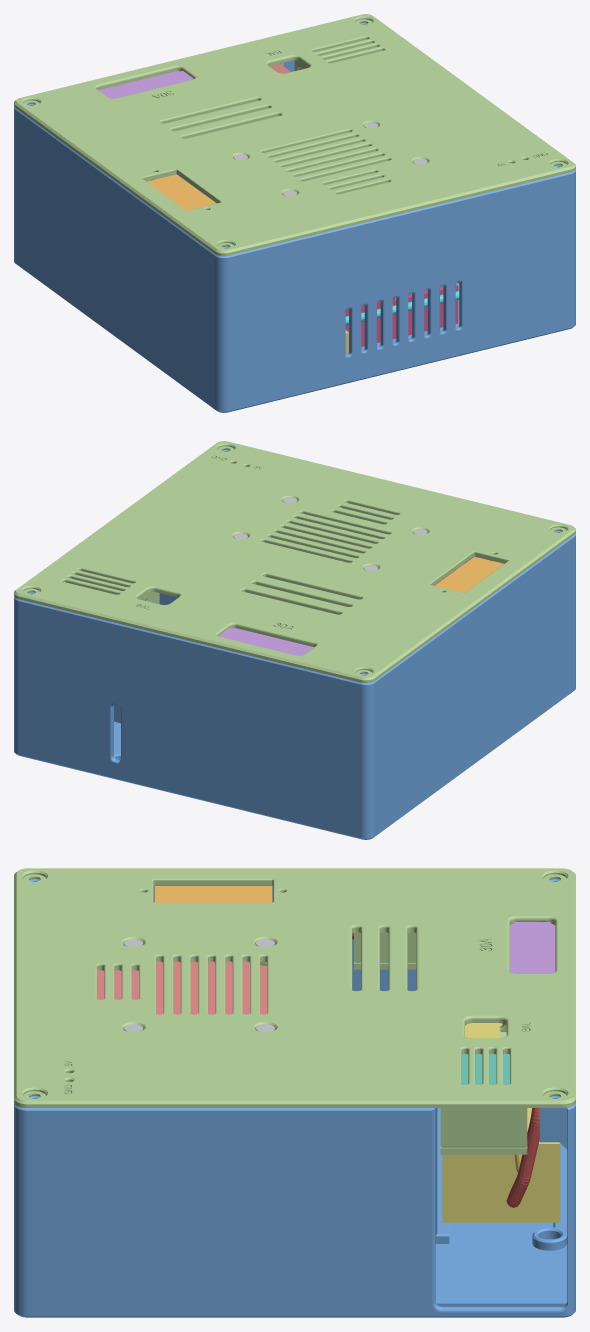
File: backpack_v3.glb
3 renders of one model, top to bottom at view 1: azimuth 30°, elevation 25°; view 2: azimuth 150°, elevation 25°; view 3: azimuth 270°, elevation 25°, orthographic. The views are drawn at different scales.
Parts seen in each view (by area): view 1: bp3_base, bp3_lid, bp3_c_switch, bp3_c_fuse_holder, bp3_c_pi_plugs; view 2: bp3_base, bp3_lid, bp3_c_switch, bp3_c_fuse_holder; view 3: bp3_lid, bp3_base, bp3_c_lipo, bp3_c_cutoff, bp3_c_fuse_holder, bp3_c_switch, bp3_w_lipo_xt60_lead, bp3_c_warner.
Part boxes in pixels (<box>): bp3_base: <box>14,23,575,412</box>; bp3_lid: <box>14,14,575,256</box>; bp3_c_switch: <box>147,174,215,210</box>; bp3_c_fuse_holder: <box>98,71,193,98</box>; bp3_c_pi_plugs: <box>395,284,458,338</box>; bp3_base: <box>14,450,575,839</box>; bp3_lid: <box>14,441,575,683</box>; bp3_c_switch: <box>435,556,503,592</box>; bp3_c_fuse_holder: <box>218,628,313,655</box>; bp3_lid: <box>14,868,575,1154</box>; bp3_base: <box>14,879,575,1317</box>; bp3_c_lipo: <box>442,1023,560,1222</box>; bp3_c_cutoff: <box>97,961,267,1014</box>; bp3_c_fuse_holder: <box>510,922,555,973</box>; bp3_c_switch: <box>154,886,272,902</box>; bp3_w_lipo_xt60_lead: <box>506,1108,539,1207</box>; bp3_c_warner: <box>461,1054,509,1084</box>.
Bounding box in the file's own units: 0.16 × 0.0726 × 0.162.
